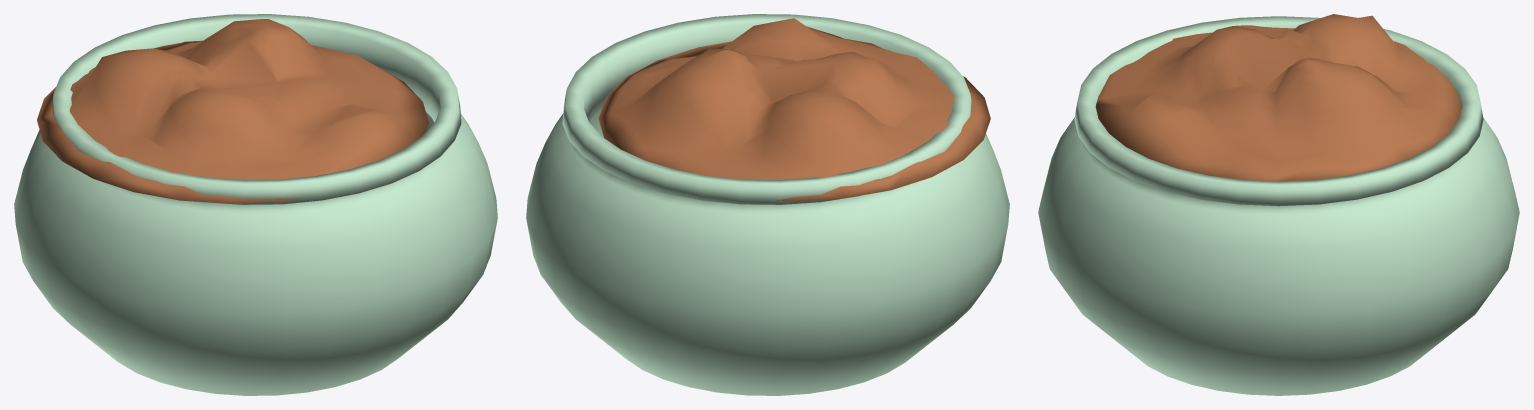
The model's file is pot_green.glb.
3 renders of one model, left to right at view 1: azimuth 30°, elevation 25°; view 2: azimuth 150°, elevation 25°; view 3: azimuth 270°, elevation 25°, orthographic.
Parts seen in each view (by area): view 1: green_圆环.005, green_泥土.006; view 2: green_圆环.005, green_泥土.006; view 3: green_圆环.005, green_泥土.006.
Part boxes in pixels (x1,y1,x2,y2): green_圆环.005: (14, 14, 497, 395); green_泥土.006: (37, 19, 428, 203); green_圆环.005: (526, 14, 1009, 395); green_泥土.006: (598, 18, 990, 201); green_圆环.005: (1038, 16, 1519, 395); green_泥土.006: (1095, 14, 1461, 181).
Size of the model in its own units: 0.8036 by 0.5189 by 0.8036.
